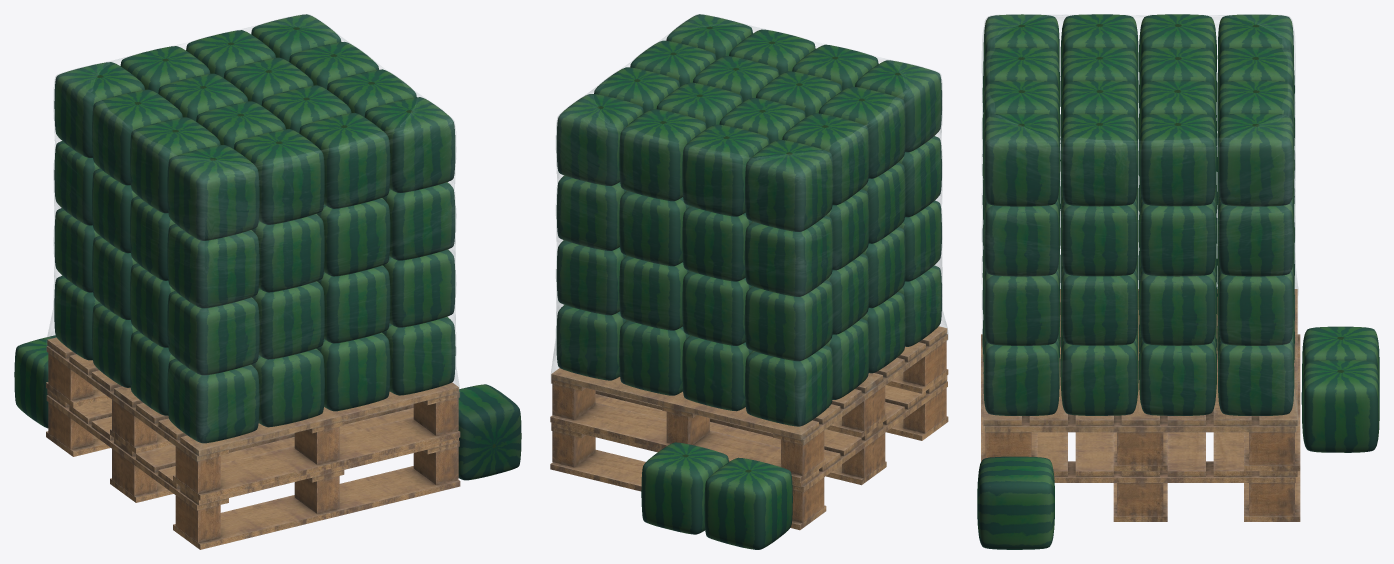
3 renders of one model, left to right at view 1: azimuth 30°, elevation 25°; view 2: azimuth 150°, elevation 25°; view 3: azimuth 270°, elevation 25°, orthographic. The views are drawn at different scales.
Parts seen in each view (by area): view 1: Melons, Wrap, Melons.002, Melons.001; view 2: Melons, Melons.001, Wrap; view 3: Melons, Melons.001, Melons.002, Wrap.
Boxes of the visible parts, x1,y1,x2,y2 form: Melons: (46, 14, 460, 549); Wrap: (46, 14, 459, 461); Melons.002: (458, 384, 521, 480); Melons.001: (14, 335, 56, 428); Melons: (550, 14, 948, 530); Melons.001: (641, 442, 792, 549); Wrap: (551, 14, 948, 444); Melons: (981, 14, 1300, 521); Melons.001: (1301, 326, 1379, 452); Melons.002: (977, 456, 1054, 549); Wrap: (982, 14, 1298, 431).
Size of the model in its own units: 10.2 by 11.01 by 10.51.
Materials: 3 (3 with a texture image).
